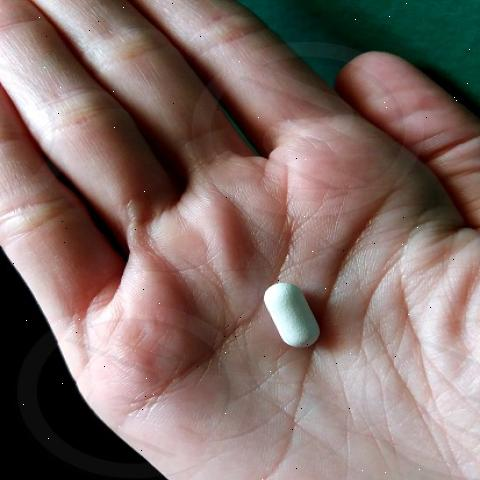Pill: (247, 263, 341, 368)
